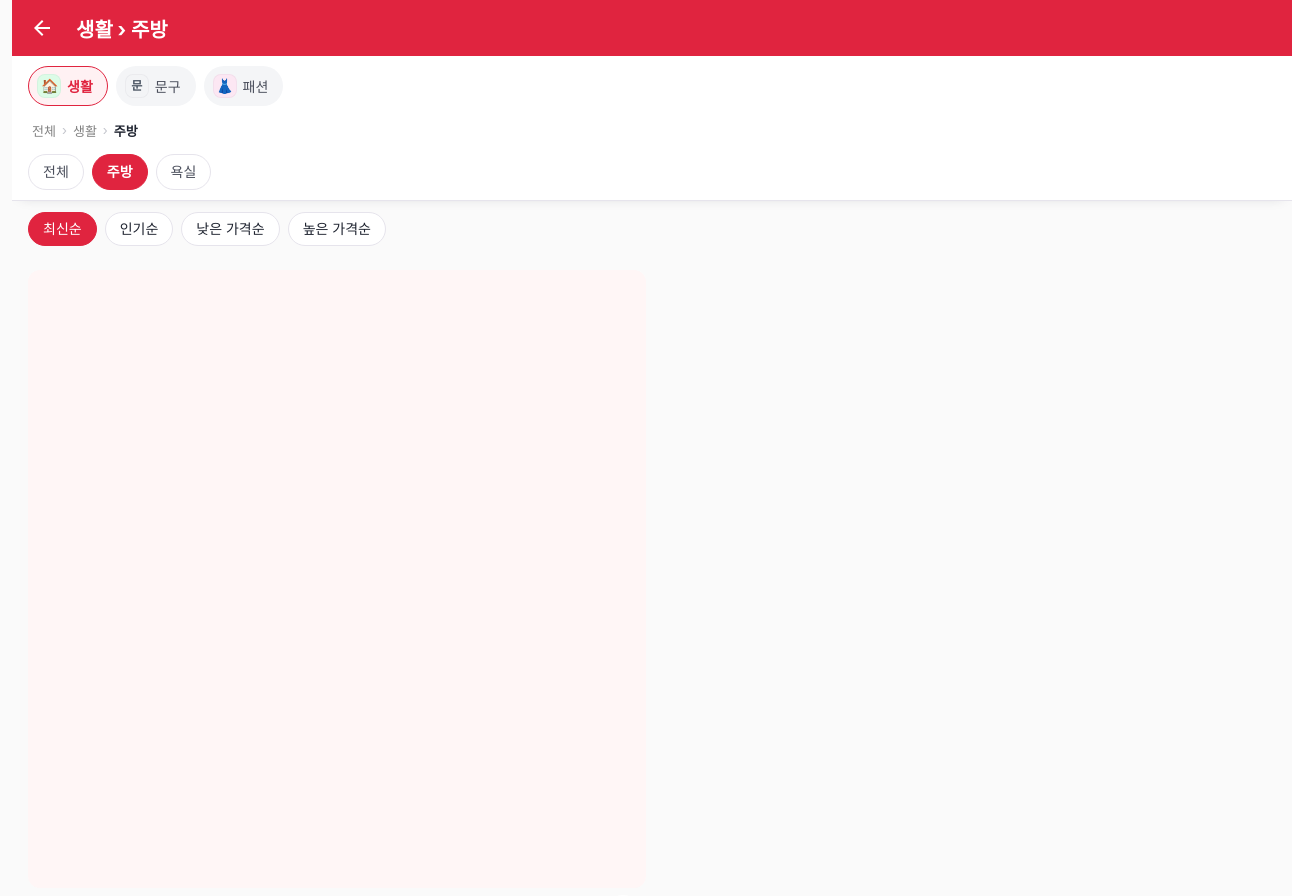
it: ProductListPage › opens the category tab from the breadcrumb root
Click the link "전체" at (44, 130), box [32, 122, 56, 138]
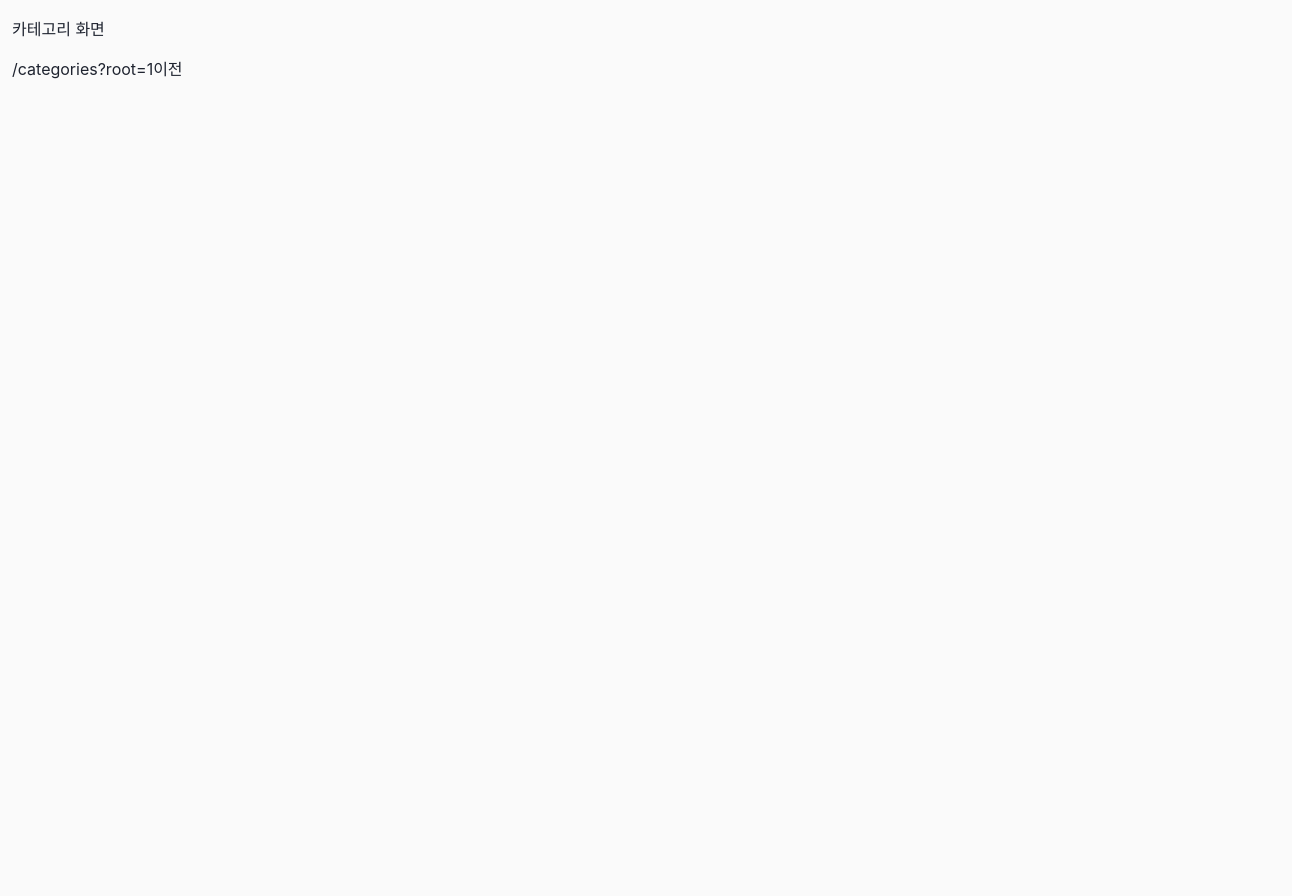
Expected: the text "카테고리 화면" is shown, [12, 19, 105, 39]
Expected: the text with test id "location" reads "/categories?root=1", [12, 59, 153, 79]
